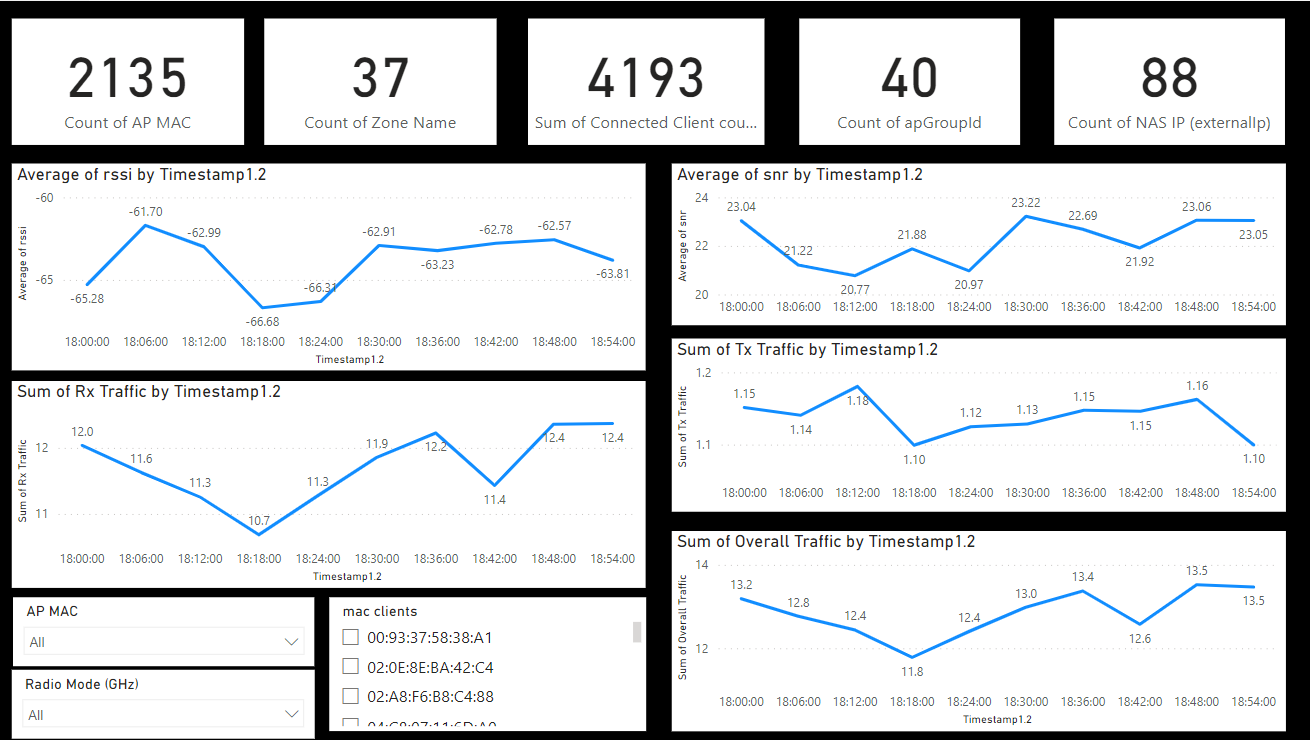

Layout of this report page (visuals, bound fields, positions):
{"tool":"powerbi","page":{"name":"Page 1","canvas":[1280,720],"ordinal":0},"visuals":[{"type":"card","fields":{"Values":["Count(AP Inventory_v1.AP MAC)"]},"box":[13.7,16.5,226.4,123.5],"z":0},{"type":"card","fields":{"Values":["Count(AP Inventory_v1.Zone Name)"]},"box":[259.3,16.5,226.4,123.5],"z":1000},{"type":"card","fields":{"Values":["Count(AP Inventory_v1.apGroupId)"]},"box":[780.8,16.5,215.4,123.5],"z":2000},{"type":"card","fields":{"Values":["Count(AP Inventory_v1.NAS IP (externalIp))"]},"box":[1029.2,16.5,225,123.5],"z":3000},{"type":"card","fields":{"Values":["Sum(AP Inventory_v1.Connected Client counts)"]},"box":[516,16.5,230.5,123.5],"z":4000},{"type":"lineChart","fields":{"Y":["Avg(Performance Data.rssi)"],"Category":["Performance Data.Timestamp1.2"]},"box":[13.7,157.8,617.5,201.7],"z":5000},{"type":"lineChart","fields":{"Category":["Performance Data.Timestamp1.2"],"Y":["Avg(Performance Data.snr)"]},"box":[655.9,157.8,598.3,157.8],"z":6000},{"type":"lineChart","fields":{"Category":["Performance Data.Timestamp1.2"],"Y":["Sum(Performance Data.Rx Traffic)"]},"box":[13.7,370.5,617.5,201.7],"z":7000},{"type":"lineChart","fields":{"Category":["Performance Data.Timestamp1.2"],"Y":["Sum(Performance Data.Tx Traffic)"]},"box":[655.9,329.3,598.3,168.8],"z":8000},{"type":"slicer","fields":{"Values":["Performance Data.AP MAC"]},"box":[15.1,580.4,293.7,67.2],"z":8001},{"type":"slicer","fields":{"Values":["Performance Data.Radio Mode (GHz)"]},"box":[13.7,651.8,295,67.2],"z":8002},{"type":"slicer","fields":{"Values":["Performance Data.mac clients"]},"box":[322.5,580.4,292.3,130.4],"z":8003},{"type":"lineChart","fields":{"Category":["Performance Data.Timestamp1.2"],"Y":["Sum(Performance Data.Overall Traffic)"]},"box":[655.9,516,598.3,194.9],"z":8004}]}

Visuals, with their boxes in screenshot pixels (x1, y1, x2, y2), scaled from the page's 1280x720 canvas onto the 1310x740 screenshot:
card - Count(AP Inventory_v1.AP MAC): <bbox>14, 17, 246, 144</bbox>
card - Count(AP Inventory_v1.Zone Name): <bbox>265, 17, 497, 144</bbox>
card - Count(AP Inventory_v1.apGroupId): <bbox>799, 17, 1020, 144</bbox>
card - Count(AP Inventory_v1.NAS IP (externalIp)): <bbox>1053, 17, 1284, 144</bbox>
card - Sum(AP Inventory_v1.Connected Client counts): <bbox>528, 17, 764, 144</bbox>
lineChart - Avg(Performance Data.rssi) x Performance Data.Timestamp1.2: <bbox>14, 162, 646, 369</bbox>
lineChart - Performance Data.Timestamp1.2 x Avg(Performance Data.snr): <bbox>671, 162, 1284, 324</bbox>
lineChart - Performance Data.Timestamp1.2 x Sum(Performance Data.Rx Traffic): <bbox>14, 381, 646, 588</bbox>
lineChart - Performance Data.Timestamp1.2 x Sum(Performance Data.Tx Traffic): <bbox>671, 338, 1284, 512</bbox>
slicer - Performance Data.AP MAC: <bbox>15, 597, 316, 666</bbox>
slicer - Performance Data.Radio Mode (GHz): <bbox>14, 670, 316, 739</bbox>
slicer - Performance Data.mac clients: <bbox>330, 597, 629, 731</bbox>
lineChart - Performance Data.Timestamp1.2 x Sum(Performance Data.Overall Traffic): <bbox>671, 530, 1284, 731</bbox>
